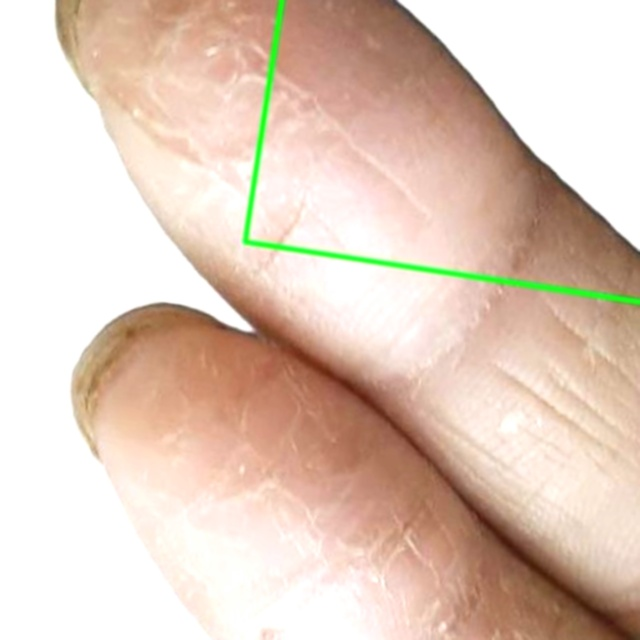Contact Dermatitis: (244, 0, 639, 302)
